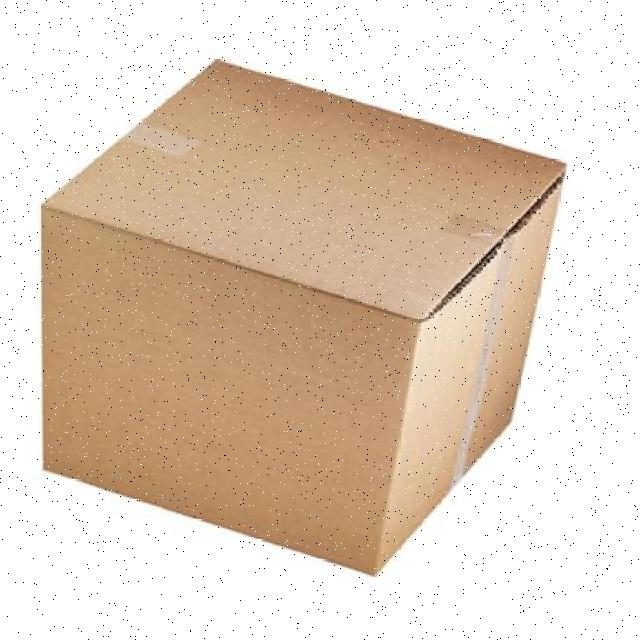normal: (24, 59, 570, 578)
